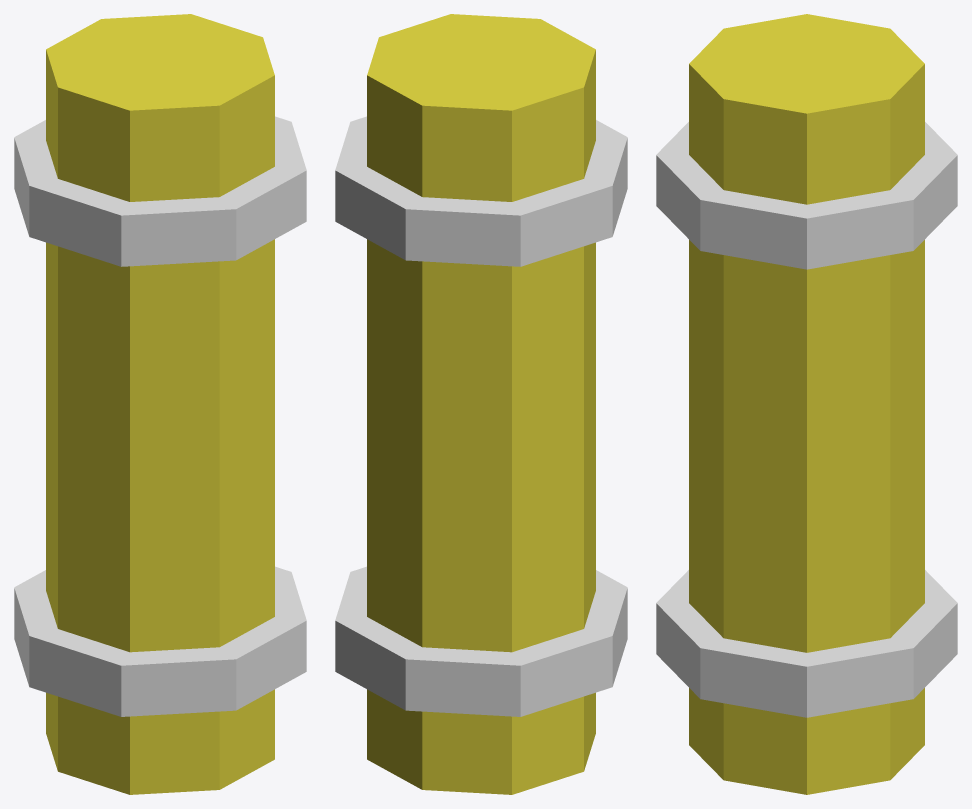
The model's file is wall_lamp_01.fbx.
3 renders of one model, left to right at view 1: azimuth 30°, elevation 25°; view 2: azimuth 150°, elevation 25°; view 3: azimuth 270°, elevation 25°, orthographic.
Parts seen in each view (by area): view 1: Cube.028; view 2: Cube.028; view 3: Cube.028.
Boxes of the visible parts, <box> form: Cube.028: <box>14,14,306,794</box>; Cube.028: <box>335,14,627,794</box>; Cube.028: <box>656,14,957,794</box>.
Bounding box in the file's own units: 7.21 × 17.98 × 7.21.
